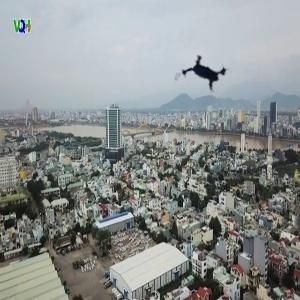drone: (173, 44, 239, 110)
